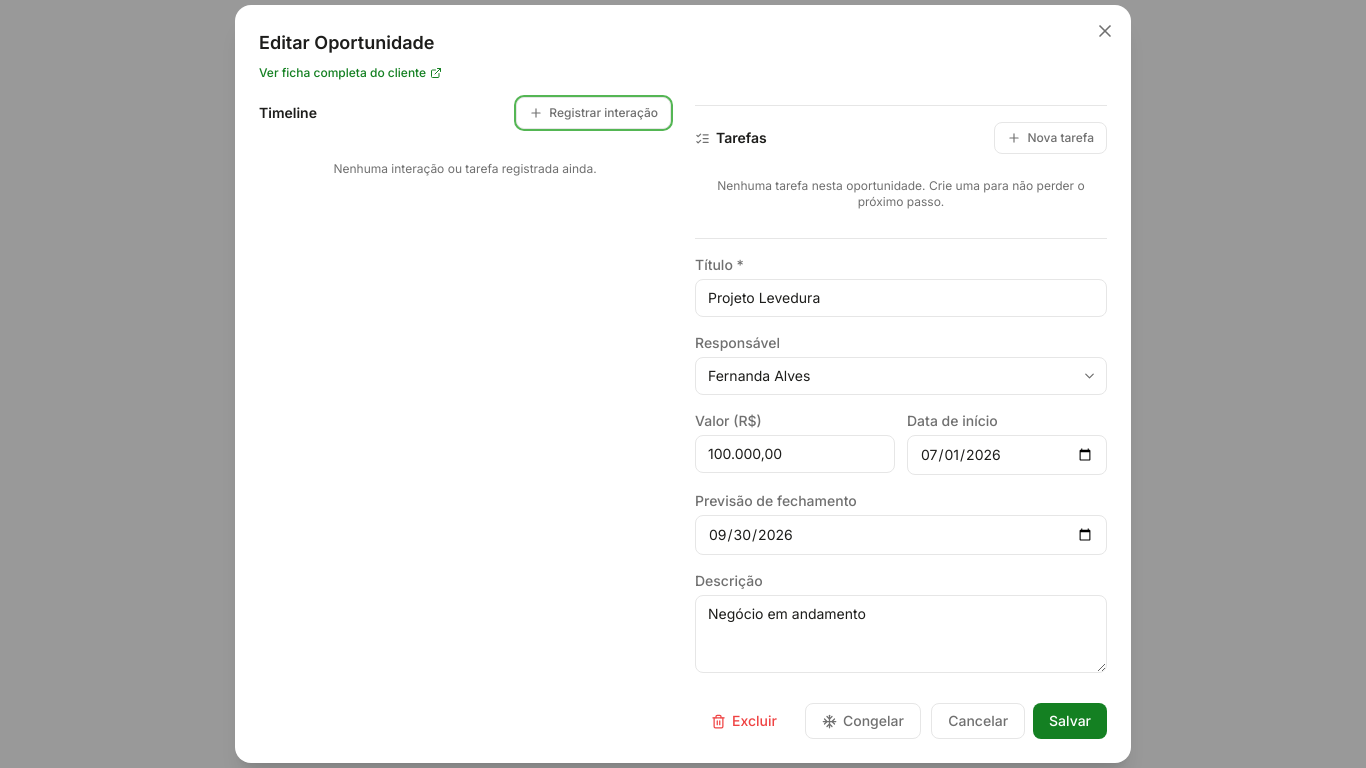
Test case: OpportunityDialog — edit mode › should keep the deal when the delete confirmation is dismissed
The image size is (1366, 768).
Click the button "Excluir".
click(744, 721)  # box [695,703,793,739]
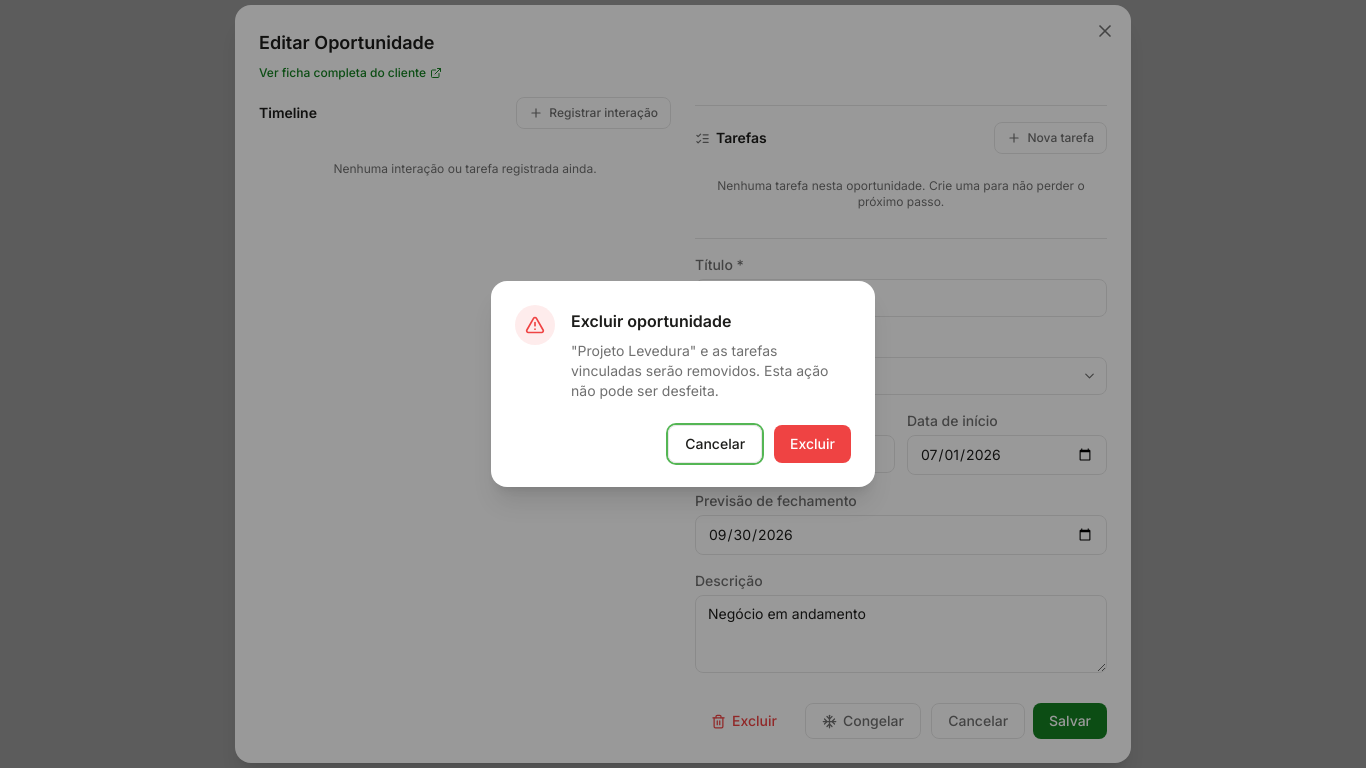
expect the heading "Excluir oportunidade" is shown: met, box [571,311,732,331]
Click the button "Cancelar".
click(715, 444)  # box [668,425,762,463]
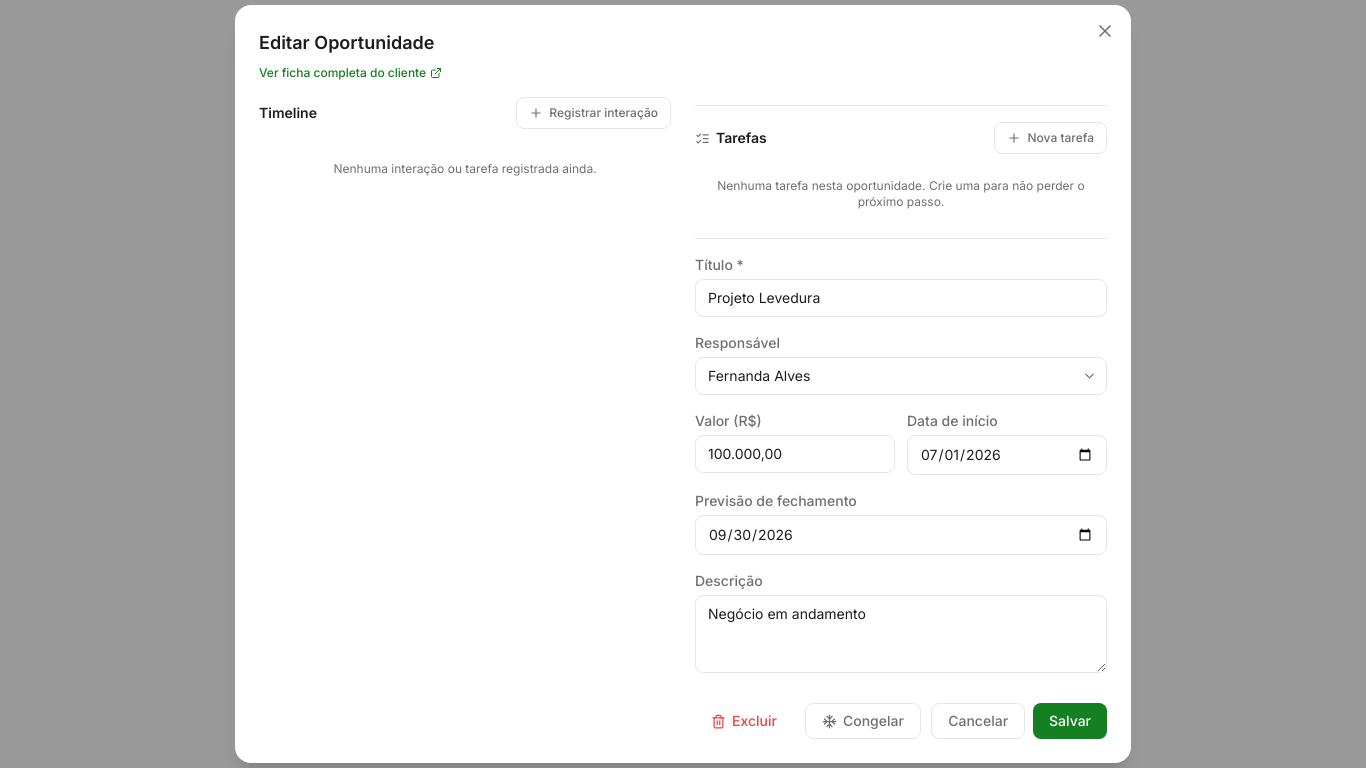
expect the heading "Excluir oportunidade" is gone: met
